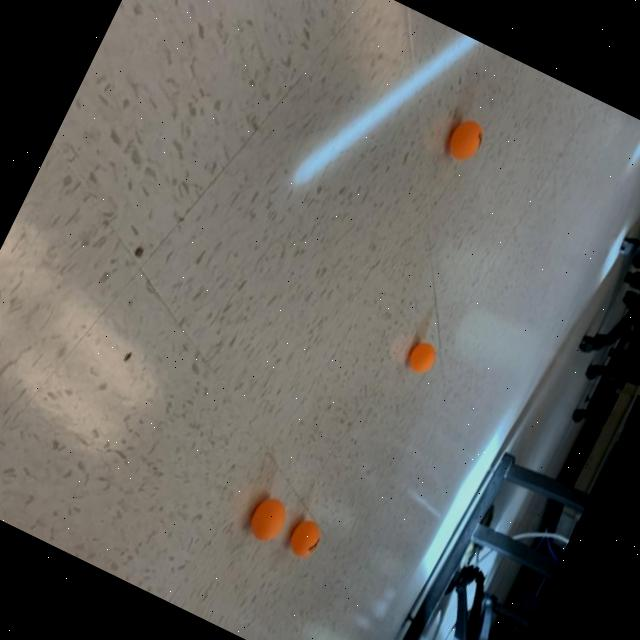ping-pong-ball: (236, 486, 296, 554), (438, 109, 492, 169), (276, 509, 330, 566), (399, 332, 445, 382)
